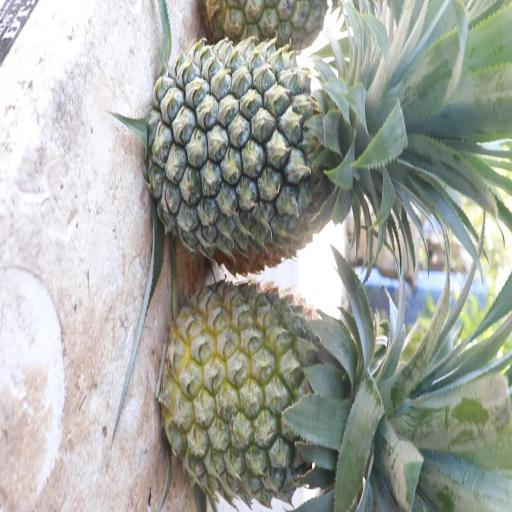------------------------------: (161, 276, 450, 501)
